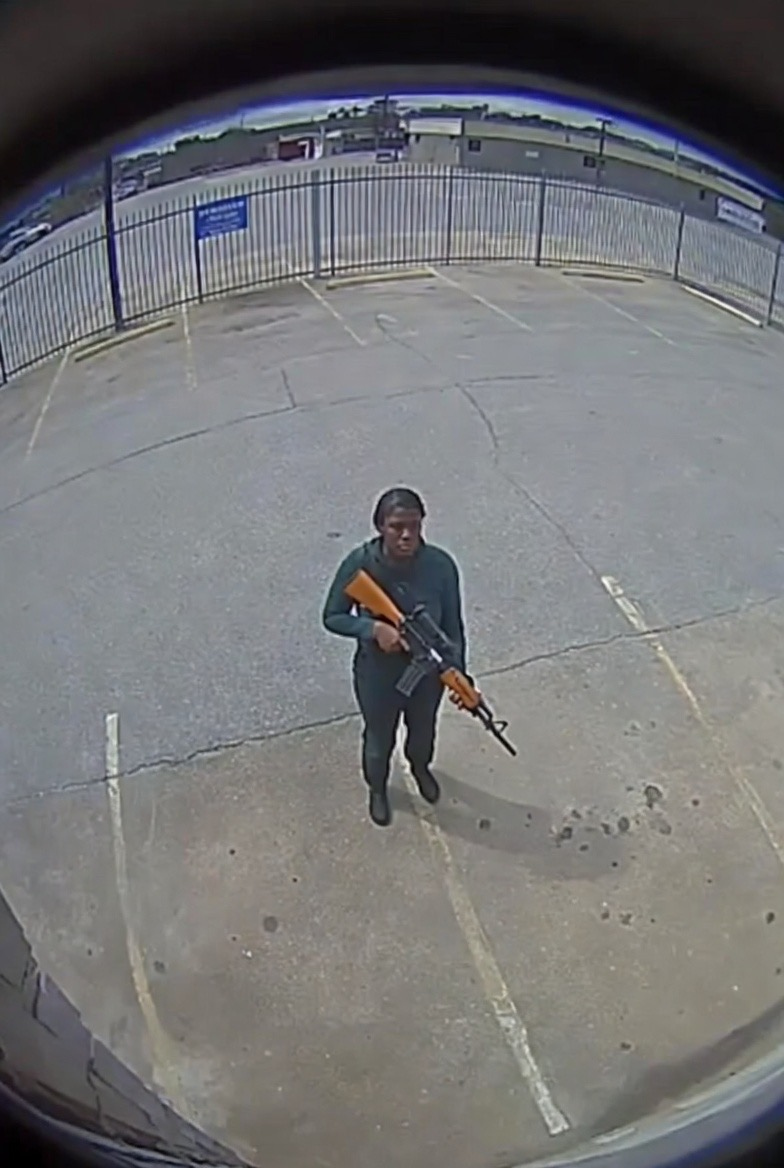person: (320, 486, 484, 827)
weapon: (341, 566, 518, 758)
